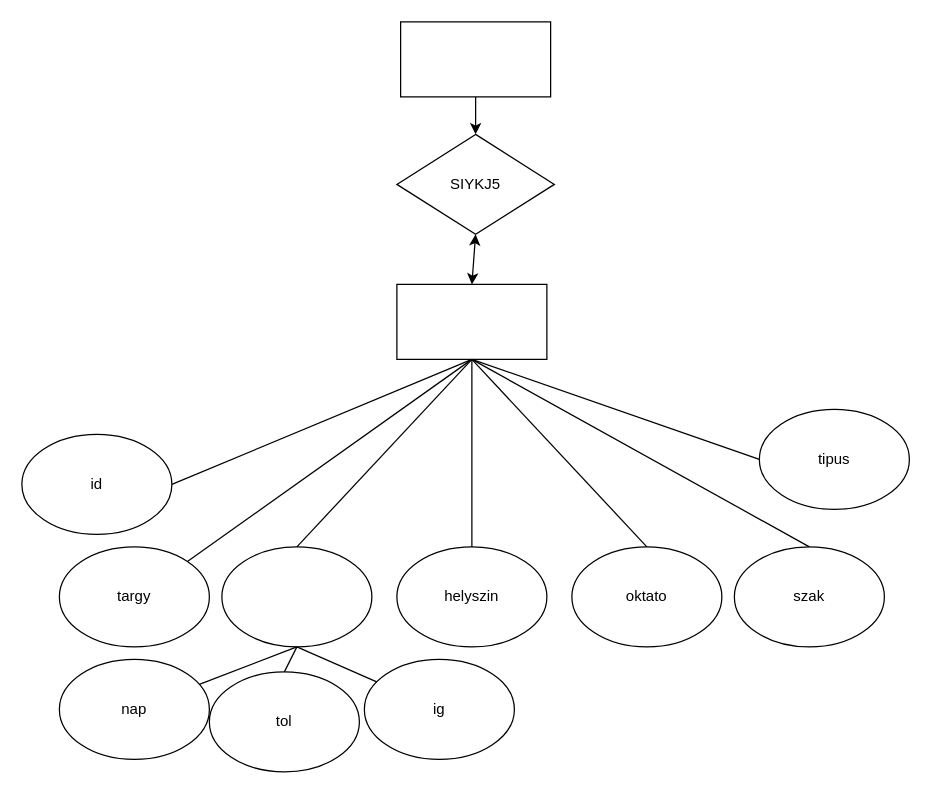
Some shapes in this 931 by 794 pixel diagram are drawn without their labels. The shapes that lost their labels are listed below. From the top down, each one's centre as x and y in pixels, then its label:
At pixel 475 59: "XML_orarend".
At pixel 471 321: "ora".
At pixel 296 596: "idopont".
